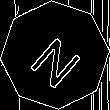N_NE: (23, 23, 87, 87)
